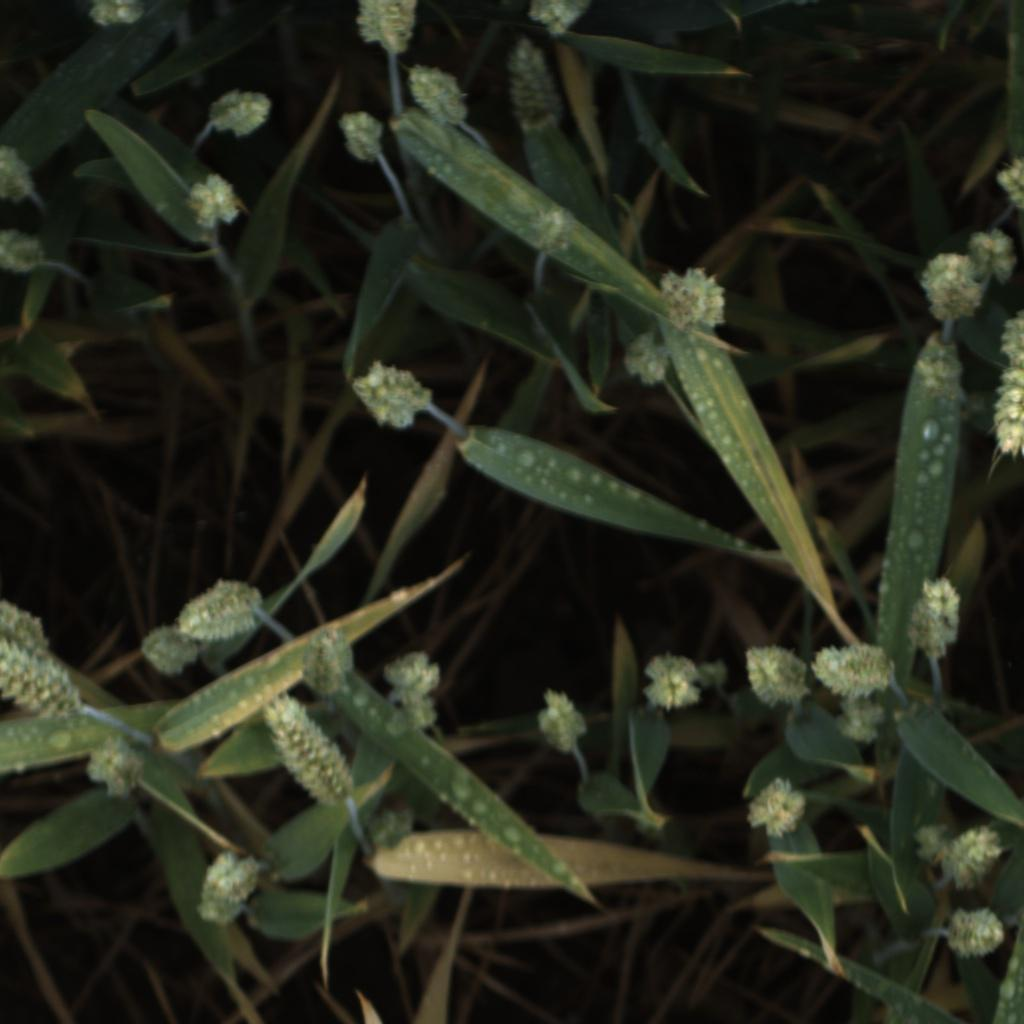0-0: (257, 695, 360, 811), (0, 637, 96, 731), (350, 349, 433, 432), (169, 576, 266, 647), (191, 849, 269, 932), (901, 569, 969, 660), (378, 648, 447, 730), (991, 310, 1024, 467), (504, 34, 562, 123), (808, 640, 902, 693), (660, 263, 733, 330), (402, 59, 475, 126), (744, 773, 813, 843), (919, 255, 984, 328), (638, 646, 705, 715), (939, 823, 1004, 894), (740, 643, 811, 708), (80, 736, 152, 800), (298, 624, 361, 696), (964, 220, 1022, 291), (0, 595, 62, 660), (206, 86, 279, 141), (530, 687, 589, 753), (356, 3, 421, 61), (942, 906, 1007, 963), (138, 624, 202, 680), (828, 690, 887, 749), (334, 108, 393, 167), (185, 172, 245, 230), (620, 330, 672, 387), (0, 142, 43, 209), (362, 810, 416, 862), (0, 227, 50, 279), (527, 0, 593, 39), (990, 152, 1023, 215), (911, 821, 952, 868), (85, 0, 147, 29)
